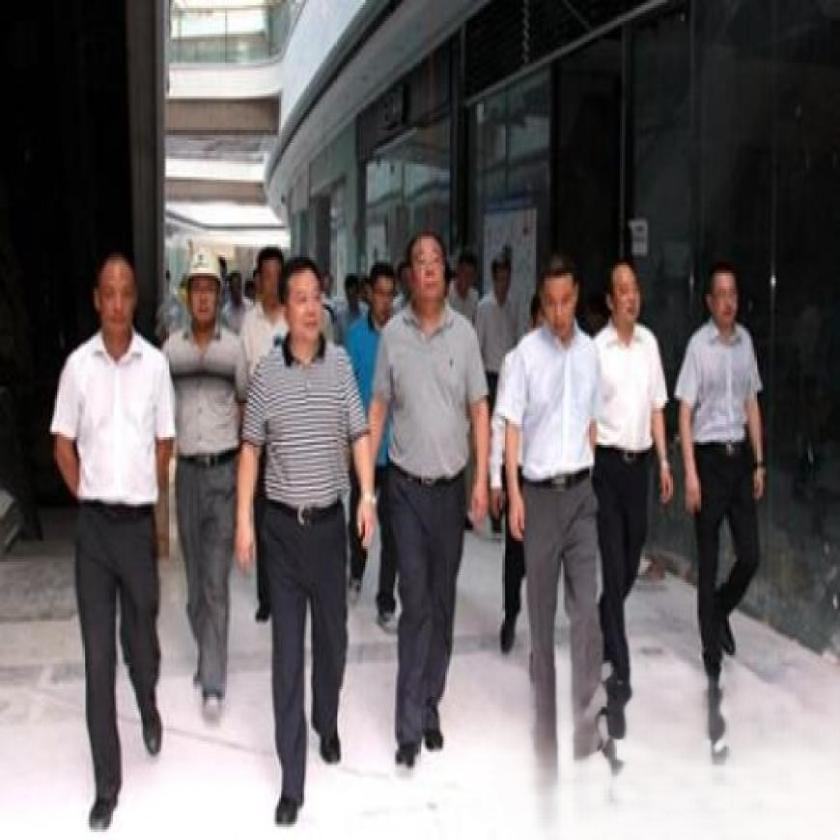Con_casco: (181, 243, 230, 339)
Sin_casco: (91, 250, 143, 350), (282, 260, 326, 350), (407, 233, 450, 323), (539, 255, 580, 338), (603, 256, 646, 332), (704, 260, 743, 335), (368, 259, 397, 329), (256, 243, 284, 312)
